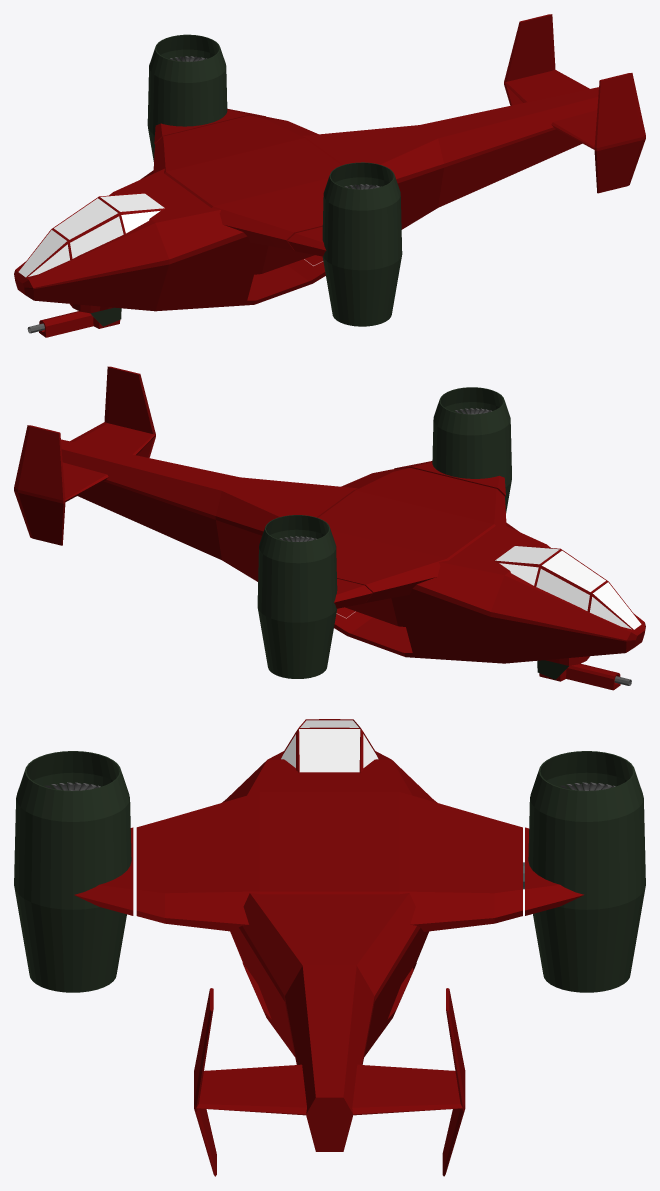
File: tank_red_1.glb
3 views of the same model, one above another, from view 1: azimuth 30°, elevation 25°; view 2: azimuth 150°, elevation 25°; view 3: azimuth 270°, elevation 25° (orthographic). The views are drawn at different scales.
Parts seen in each view (by area): view 1: body_primitive0, Куб.004_primitive1, Циліндр.001_primitive0, body_primitive1, Куб.002, Куб.004_primitive0, Циліндр.001_primitive1; view 2: body_primitive0, Циліндр.001_primitive0, Куб.004_primitive1, body_primitive1, Куб.002, Циліндр.001_primitive1, Куб.004_primitive0; view 3: body_primitive0, Циліндр.001_primitive0, Куб.004_primitive1, body_primitive1, Циліндр.001_primitive1, Куб.004_primitive0.
Boxes of the visible parts, <box> form: body_primitive0: <box>14,14,645,311</box>; Куб.004_primitive1: <box>322,162,402,326</box>; Циліндр.001_primitive0: <box>147,34,227,161</box>; body_primitive1: <box>18,193,164,277</box>; Куб.002: <box>39,311,120,337</box>; Куб.004_primitive0: <box>287,227,326,256</box>; Циліндр.001_primitive1: <box>154,108,265,143</box>; body_primitive0: <box>14,366,645,663</box>; Циліндр.001_primitive0: <box>257,515,337,678</box>; Куб.004_primitive1: <box>432,387,511,512</box>; body_primitive1: <box>495,546,641,629</box>; Куб.002: <box>539,663,620,690</box>; Циліндр.001_primitive1: <box>334,578,372,608</box>; Куб.004_primitive0: <box>394,461,505,496</box>; body_primitive0: <box>136,719,522,1176</box>; Циліндр.001_primitive0: <box>528,751,645,992</box>; Куб.004_primitive1: <box>14,751,131,992</box>; body_primitive1: <box>281,720,378,772</box>; Циліндр.001_primitive1: <box>525,827,583,915</box>; Куб.004_primitive0: <box>74,827,133,915</box>.
Bounding box in the file's own units: 1 × 0.2715 × 0.6294.
